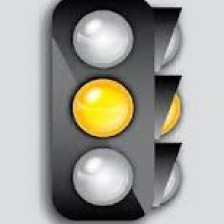semaforo: (51, 1, 155, 221)
